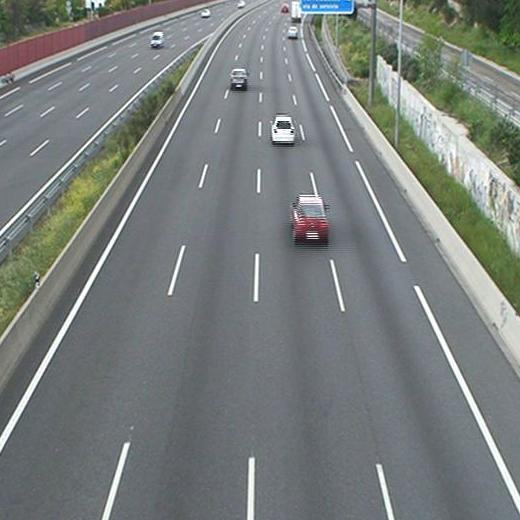car: (289, 195, 330, 247), (270, 116, 296, 146), (230, 69, 248, 91), (288, 26, 297, 39)
